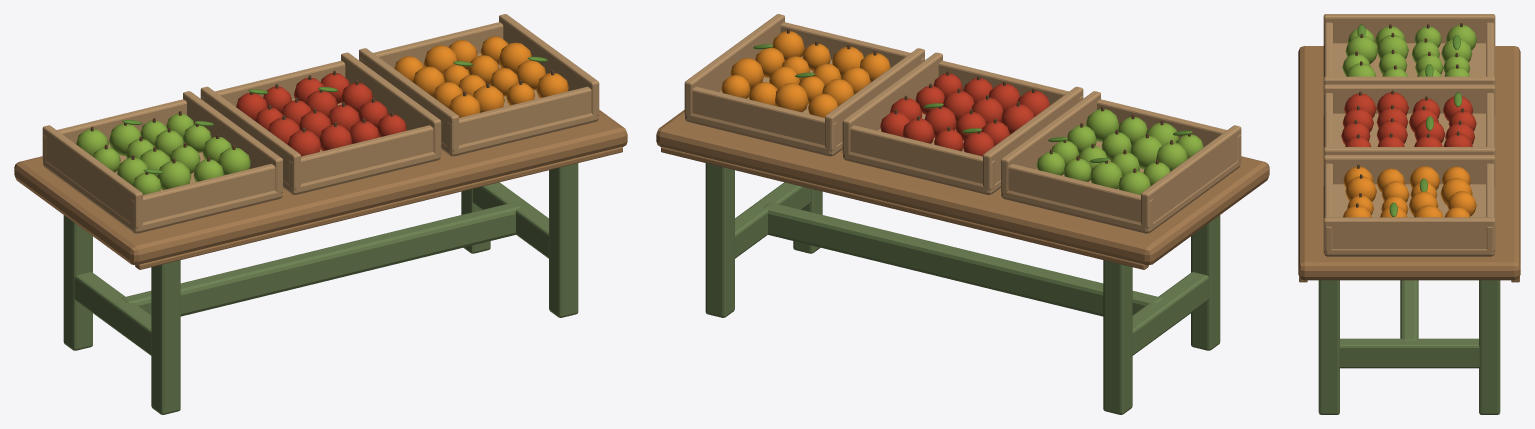
The model's file is rivora_orchard_small.glb.
3 renders of one model, left to right at view 1: azimuth 30°, elevation 25°; view 2: azimuth 150°, elevation 25°; view 3: azimuth 270°, elevation 25°, orthographic. The views are drawn at different scales.
Parts seen in each view (by area): view 1: rivora_orchard_small; view 2: rivora_orchard_small; view 3: rivora_orchard_small.
Boxes of the visible parts, box(x1,y1,x2,y2) form: rivora_orchard_small: box(14, 14, 627, 414); rivora_orchard_small: box(656, 14, 1269, 414); rivora_orchard_small: box(1298, 14, 1520, 414).
Bounding box in the file's own units: 1.72 × 0.7658 × 0.73.
